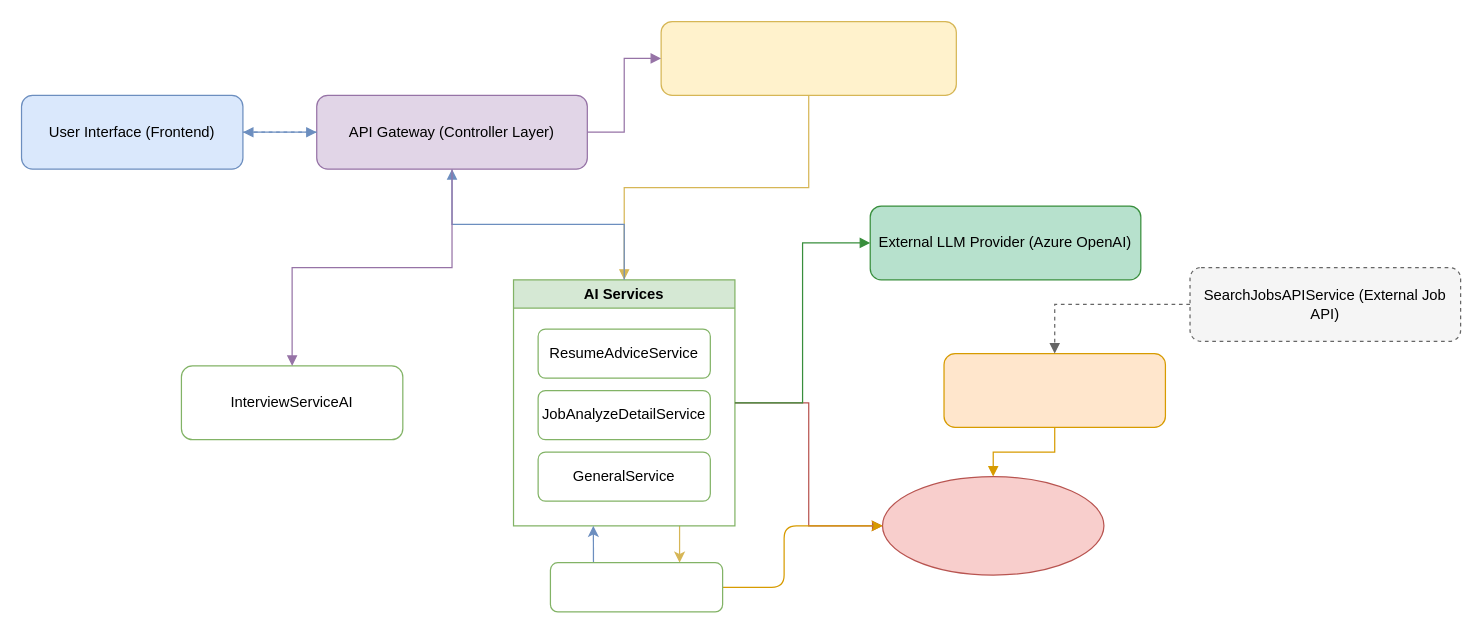
This 1482x633 diagram has some shape labels left out. The shapes that lost their labels are listed below. From the top down, each one's centre as x and y in pixels, then its label:
the point at 808,57: Intent Detection (IntentDetectionService)
the point at 1054,389: JobSearchedService
the point at 992,525: Database (User, Job, Interview, Conversation etc.)
the point at 636,586: SummaryService
